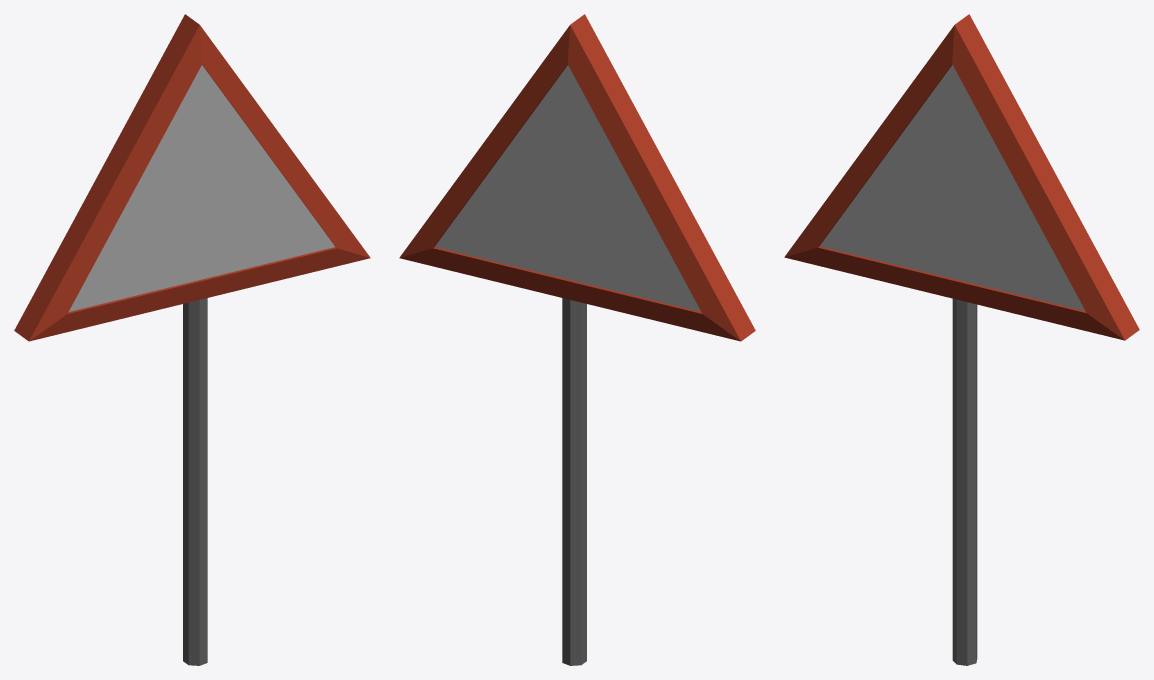
The model's file is Schild I.fbx.
3 renders of one model, left to right at view 1: azimuth 30°, elevation 25°; view 2: azimuth 150°, elevation 25°; view 3: azimuth 330°, elevation 25°, orthographic.
Visible parts, largest first — view 1: Würfel, Zylinder; view 2: Würfel, Zylinder; view 3: Würfel, Zylinder.
Boxes of the visible parts, bbox=[...] form: Würfel: bbox=[14, 14, 370, 341]; Zylinder: bbox=[183, 298, 207, 665]; Würfel: bbox=[399, 14, 755, 341]; Zylinder: bbox=[562, 298, 586, 665]; Würfel: bbox=[784, 14, 1139, 340]; Zylinder: bbox=[952, 298, 977, 665].
Size of the model in its own units: 154 by 276 by 15.31.
